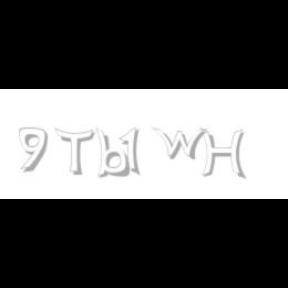1: (119, 128, 141, 176)
9: (18, 128, 48, 172)
H: (200, 128, 246, 180)
T: (54, 128, 94, 176)
b: (95, 128, 133, 178)
w: (152, 128, 212, 160)
